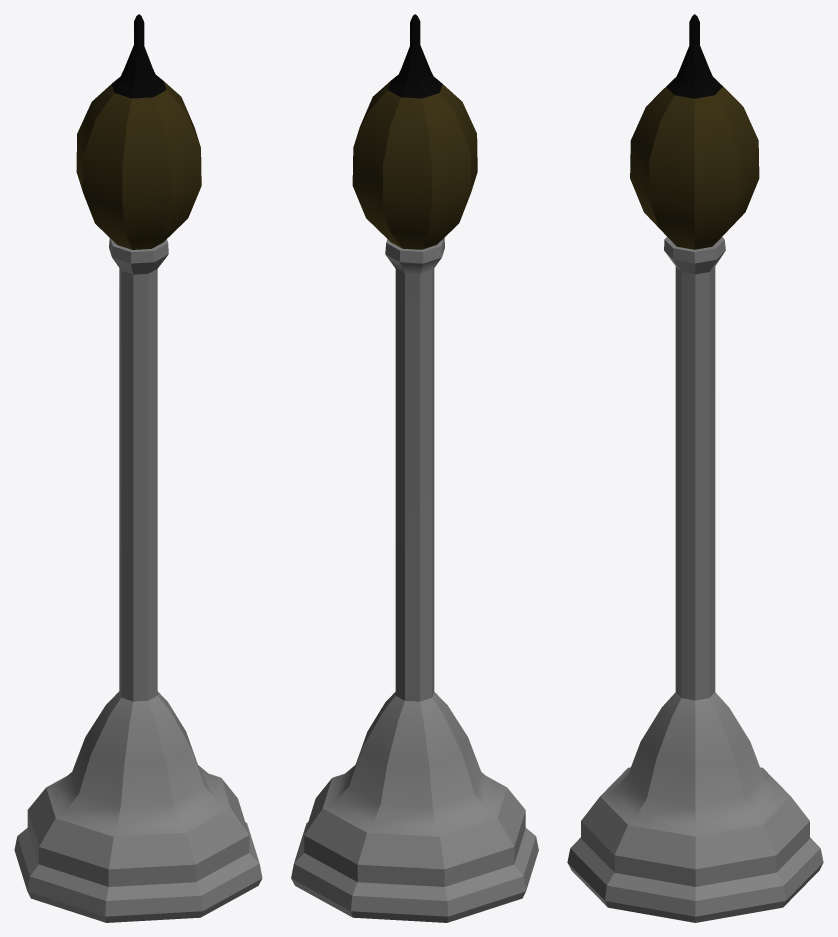
File: Lamp.obj
3 views of the same model, side by side, from view 1: azimuth 30°, elevation 25°; view 2: azimuth 150°, elevation 25°; view 3: azimuth 270°, elevation 25° (orthographic).
Visible parts, largest first — view 1: Lamp polySurface1_Lamp polySurface1, polySurface2 Lamp_polySurface2 Lamp; view 2: Lamp polySurface1_Lamp polySurface1, polySurface2 Lamp_polySurface2 Lamp; view 3: Lamp polySurface1_Lamp polySurface1, polySurface2 Lamp_polySurface2 Lamp.
Boxes of the visible parts, <box> form: Lamp polySurface1_Lamp polySurface1: <box>14,238,262,922</box>; polySurface2 Lamp_polySurface2 Lamp: <box>76,14,201,249</box>; Lamp polySurface1_Lamp polySurface1: <box>291,238,538,922</box>; polySurface2 Lamp_polySurface2 Lamp: <box>352,14,477,249</box>; Lamp polySurface1_Lamp polySurface1: <box>567,237,823,922</box>; polySurface2 Lamp_polySurface2 Lamp: <box>630,14,759,249</box>.
Size of the model in its own units: 3.54 by 13.07 by 3.54.
